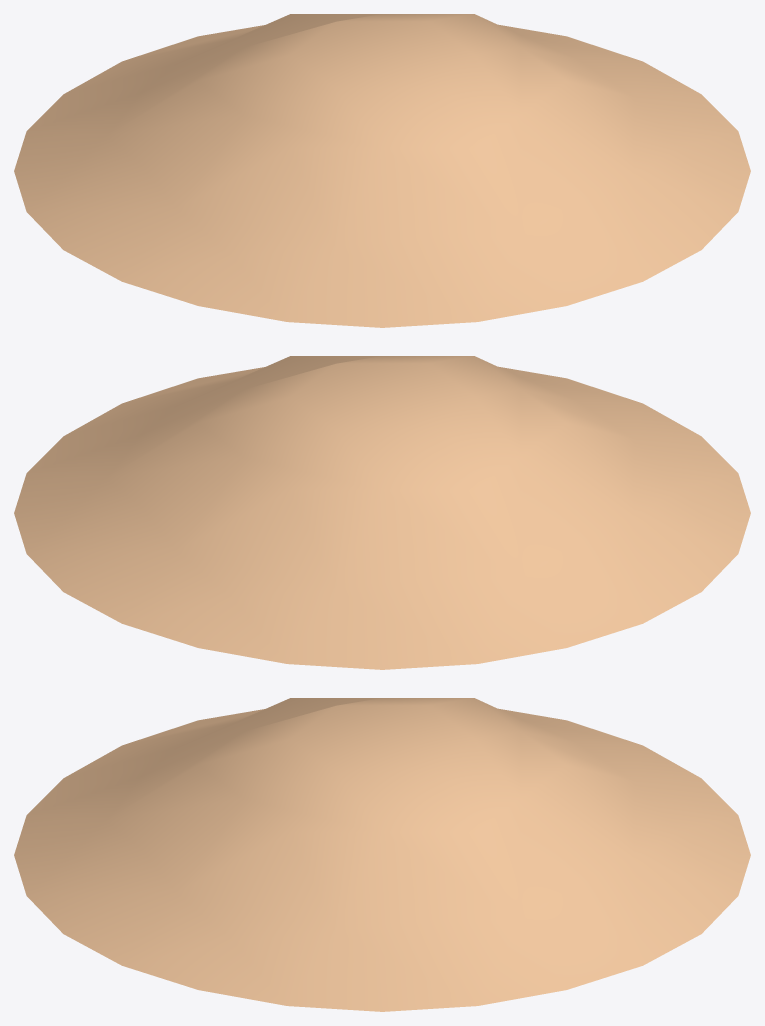
Rendered from Sawdust.fbx.
The picture shows the model from 3 angles, top to bottom: view 1: azimuth 30°, elevation 25°; view 2: azimuth 150°, elevation 25°; view 3: azimuth 270°, elevation 25°; orthographic projection.
Visible parts, largest first — view 1: Sawdust; view 2: Sawdust; view 3: Sawdust.
Part boxes in pixels (box(x1,y1,x2,y2)): Sawdust: box(14, 14, 750, 327); Sawdust: box(14, 356, 750, 669); Sawdust: box(14, 698, 750, 1011).
Size of the model in its own units: 1.68 by 0.294 by 1.68.
